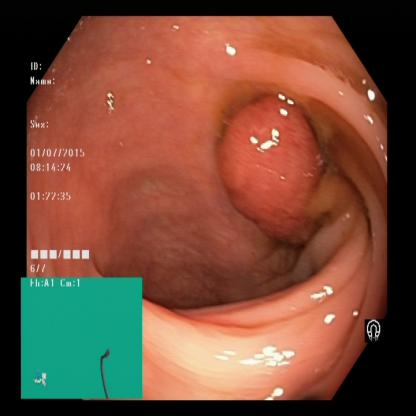Labels: (26, 56, 100, 278), (20, 274, 146, 399), (354, 310, 391, 353)
Polyps: (210, 85, 322, 232)
